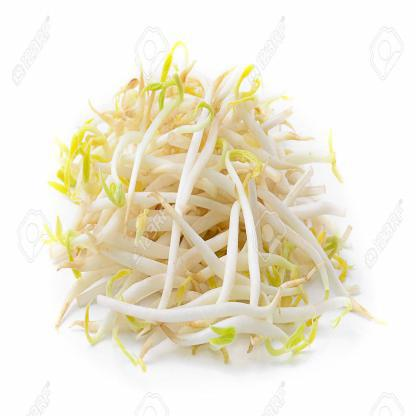bean sprouts: (70, 78, 366, 366)
